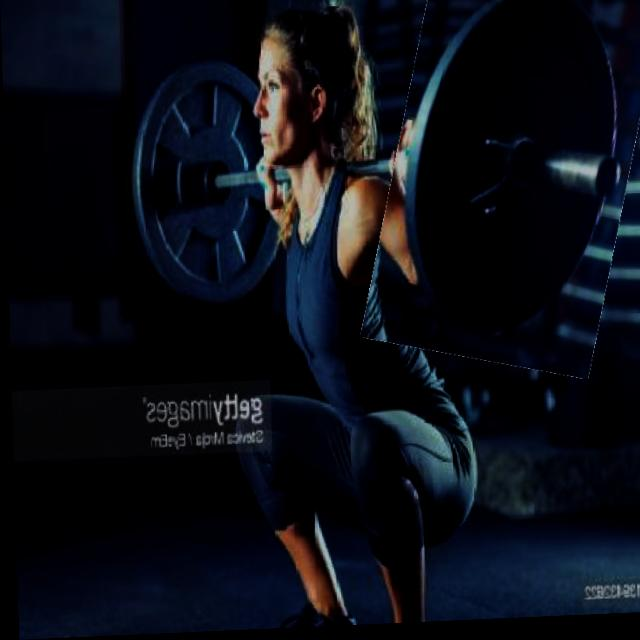barbell: (372, 1, 640, 381)
